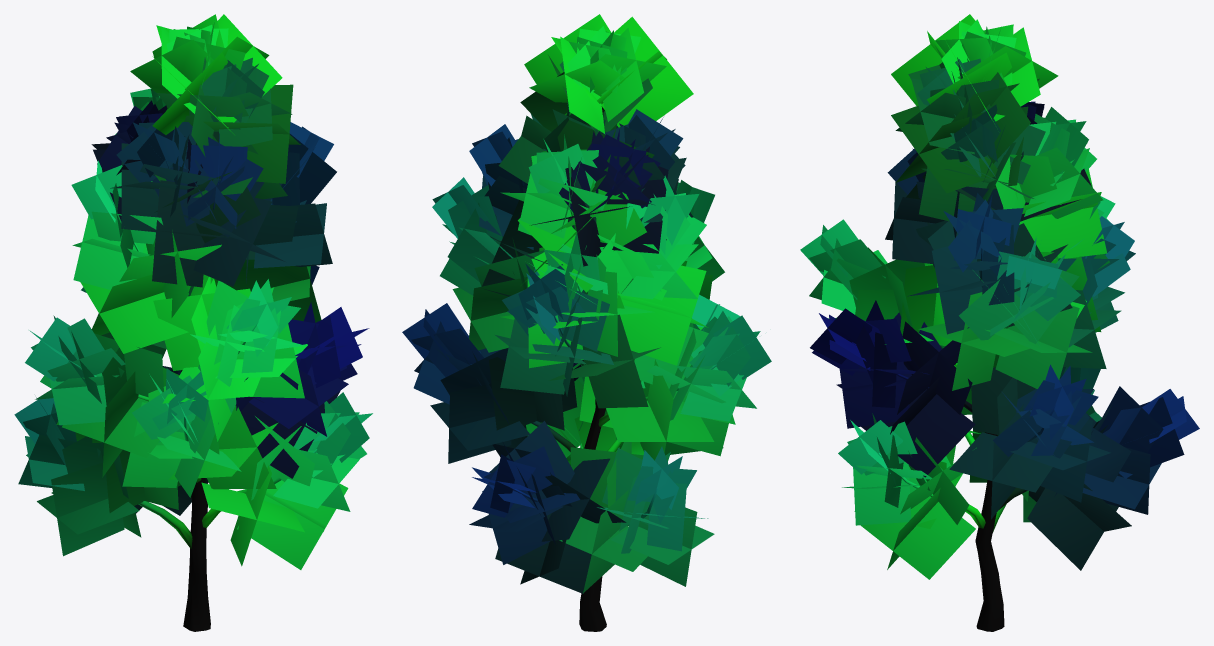
File: tree 1 lod0.FBX
3 views of the same model, side by side, from view 1: azimuth 30°, elevation 25°; view 2: azimuth 150°, elevation 25°; view 3: azimuth 270°, elevation 25° (orthographic).
Parts seen in each view (by area): view 1: Tree lod0; view 2: Tree lod0; view 3: Tree lod0.
Part boxes in pixels (x1,y1,x2,y2): Tree lod0: (14, 14, 372, 631); Tree lod0: (402, 14, 771, 631); Tree lod0: (800, 14, 1199, 631).
Bounding box in the file's own units: 2.45 × 4.29 × 2.61.
